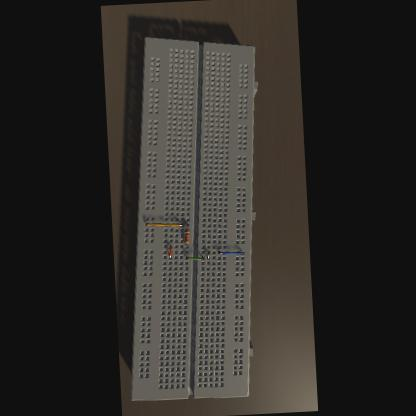breadboard: (110, 32, 272, 402)
resistor: (183, 228, 188, 242)
wire: (144, 222, 182, 228), (217, 249, 242, 254), (184, 256, 201, 260), (167, 245, 171, 257), (206, 250, 207, 258), (184, 244, 186, 245), (186, 223, 186, 227)
